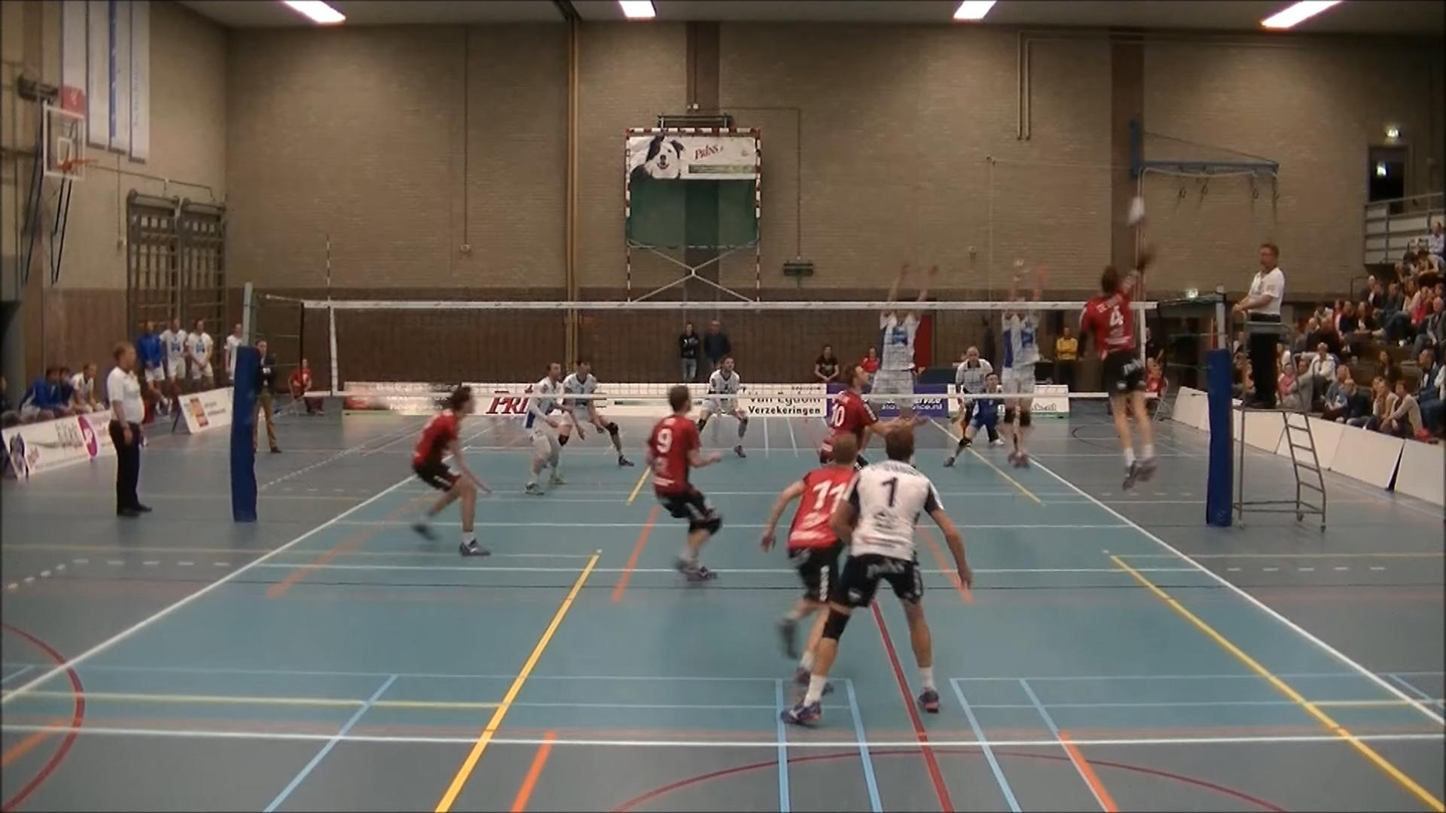Attack: (1071, 241, 1168, 491)
Block: (985, 241, 1054, 473), (862, 246, 935, 464)
Player: (781, 425, 972, 724), (761, 434, 856, 684), (645, 385, 721, 580), (412, 385, 489, 555), (560, 359, 633, 466), (819, 364, 881, 467), (944, 373, 1001, 467), (524, 363, 564, 495), (697, 357, 748, 457)
ball: (1120, 189, 1153, 234)
